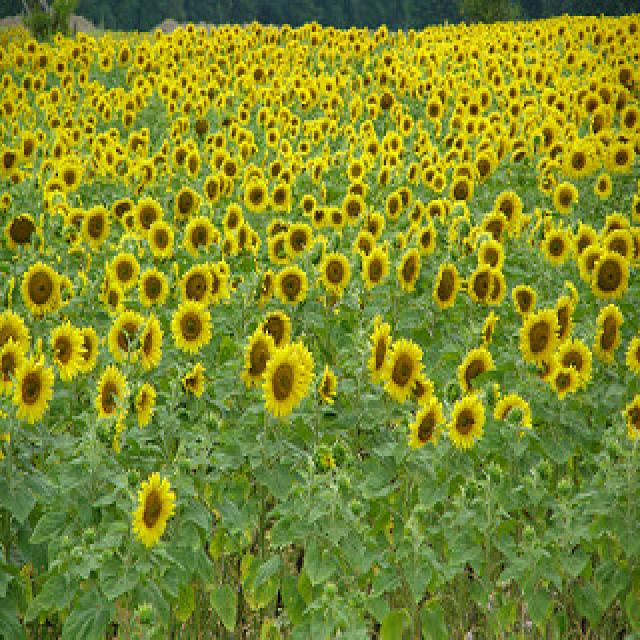sunflower: (134, 472, 176, 547), (383, 337, 423, 404), (169, 300, 215, 356), (263, 355, 303, 416), (518, 308, 558, 369), (455, 348, 497, 404), (448, 396, 486, 449), (51, 323, 83, 381), (409, 400, 445, 451), (592, 252, 628, 303), (25, 263, 59, 316), (93, 365, 127, 416), (16, 362, 52, 409), (595, 305, 623, 364), (274, 265, 310, 308), (243, 334, 275, 382), (112, 315, 140, 368), (179, 265, 211, 308), (432, 262, 460, 310), (556, 344, 592, 381), (137, 268, 169, 308), (185, 217, 213, 260), (551, 300, 573, 353), (111, 252, 139, 292), (321, 254, 349, 294), (2, 313, 26, 359), (397, 249, 421, 295), (142, 319, 164, 369), (368, 327, 388, 382), (259, 314, 293, 346), (135, 197, 163, 235), (78, 328, 100, 376), (468, 264, 492, 307), (7, 215, 37, 249), (148, 220, 174, 257), (365, 249, 387, 292), (268, 232, 294, 267), (406, 374, 434, 406), (544, 231, 568, 268), (135, 384, 155, 427), (287, 224, 311, 259), (317, 367, 337, 409), (244, 179, 268, 213), (495, 191, 519, 225), (85, 207, 107, 244), (512, 286, 536, 318), (344, 194, 366, 227), (2, 346, 20, 386), (479, 240, 501, 272), (112, 195, 134, 224), (175, 188, 197, 217), (555, 183, 577, 212), (610, 144, 632, 173), (570, 146, 588, 178), (621, 104, 639, 136), (343, 159, 365, 185), (590, 104, 606, 139), (225, 203, 241, 237), (270, 184, 290, 211), (105, 288, 125, 312), (60, 166, 80, 190), (378, 90, 398, 114), (452, 178, 472, 202), (58, 275, 72, 309), (185, 148, 201, 177), (418, 227, 434, 256), (539, 124, 555, 153), (204, 177, 220, 204), (356, 234, 374, 258), (394, 188, 412, 212), (387, 193, 401, 223), (309, 207, 327, 230), (169, 145, 187, 167), (193, 117, 211, 139), (475, 156, 491, 180), (1, 150, 17, 173), (22, 137, 38, 159), (222, 157, 238, 179), (532, 66, 546, 90), (596, 175, 612, 196), (432, 172, 446, 196), (252, 65, 266, 87), (329, 209, 343, 231), (121, 212, 137, 231), (50, 141, 66, 160), (399, 115, 413, 136), (430, 100, 442, 124), (48, 88, 62, 107), (269, 160, 283, 179), (377, 169, 391, 188), (1, 192, 13, 213), (119, 44, 131, 65), (302, 195, 316, 213), (389, 135, 401, 156), (32, 76, 44, 95), (62, 72, 74, 91), (70, 128, 82, 147), (123, 112, 135, 131), (160, 80, 172, 99), (258, 108, 270, 127), (22, 75, 34, 93), (84, 123, 96, 141), (3, 101, 15, 118), (49, 114, 61, 130), (34, 130, 46, 146), (267, 129, 277, 148), (238, 109, 250, 123), (2, 74, 12, 90), (78, 70, 88, 86), (91, 92, 101, 108), (103, 104, 111, 123)
